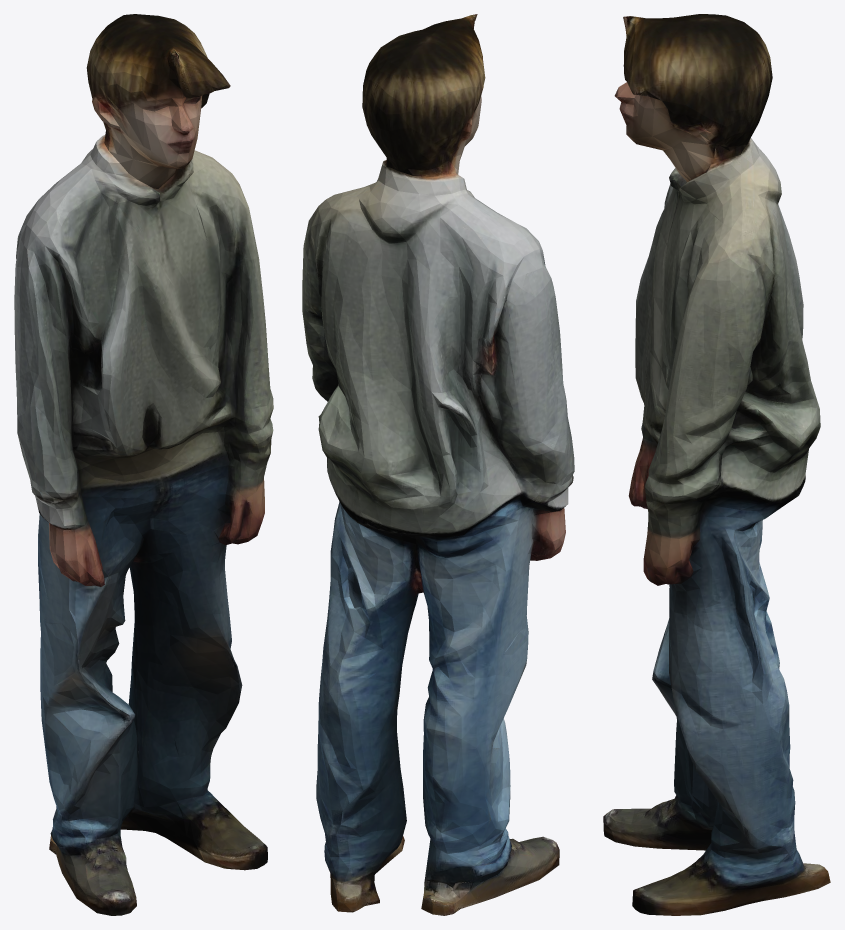
File: student.glb
3 renders of one model, left to right at view 1: azimuth 30°, elevation 25°; view 2: azimuth 150°, elevation 25°; view 3: azimuth 270°, elevation 25°, orthographic.
Parts seen in each view (by area): view 1: world; view 2: world; view 3: world.
Boxes of the visible parts, x1,y1,x2,y2 form: world: (14,14,273,915); world: (302,14,574,915); world: (603,14,830,915).
Size of the model in its own units: 0.3057 by 1 by 0.2427.
1 material, 1 textured.
